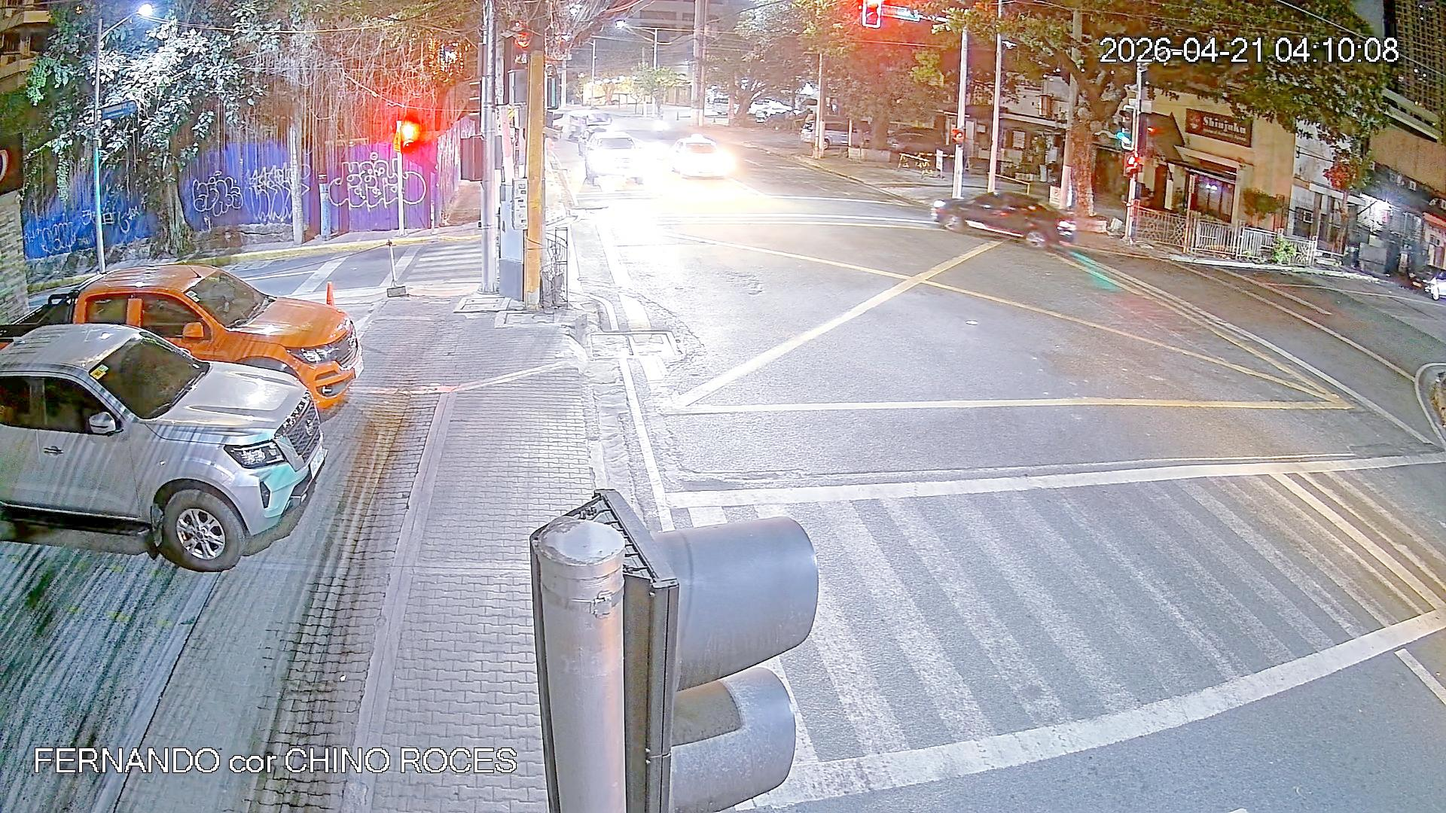Car: (0, 320, 355, 589), (44, 259, 382, 429), (916, 175, 1095, 268), (566, 133, 649, 193), (666, 127, 734, 194), (785, 113, 865, 157), (699, 88, 741, 128)
